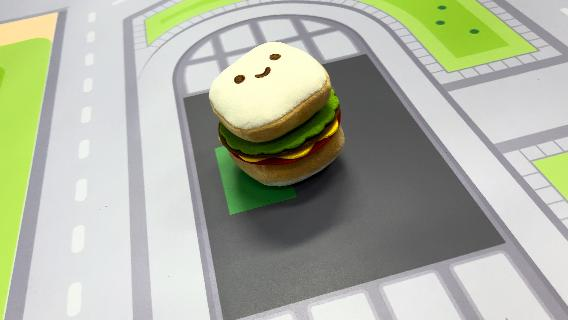sandwich: (207, 39, 347, 188)
